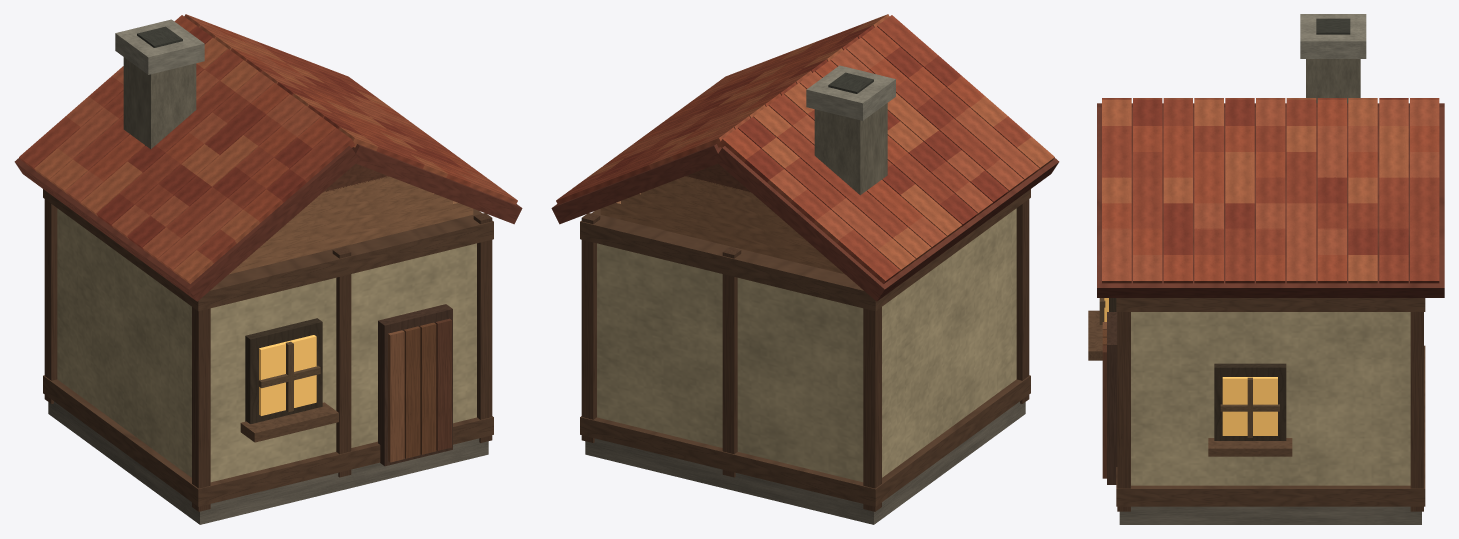
Rendered from cottage.glb.
The picture shows the model from 3 angles, left to right: view 1: azimuth 30°, elevation 25°; view 2: azimuth 150°, elevation 25°; view 3: azimuth 270°, elevation 25°; orthographic projection.
Parts seen in each view (by area): view 1: cottage; view 2: cottage; view 3: cottage.
Part boxes in pixels (<box>): cottage: <box>14,14,522,524</box>; cottage: <box>551,14,1059,524</box>; cottage: <box>1088,14,1444,524</box>.
Size of the model in its own units: 3.37 by 3.81 by 3.13.
Materials: 5 (4 with a texture image).
